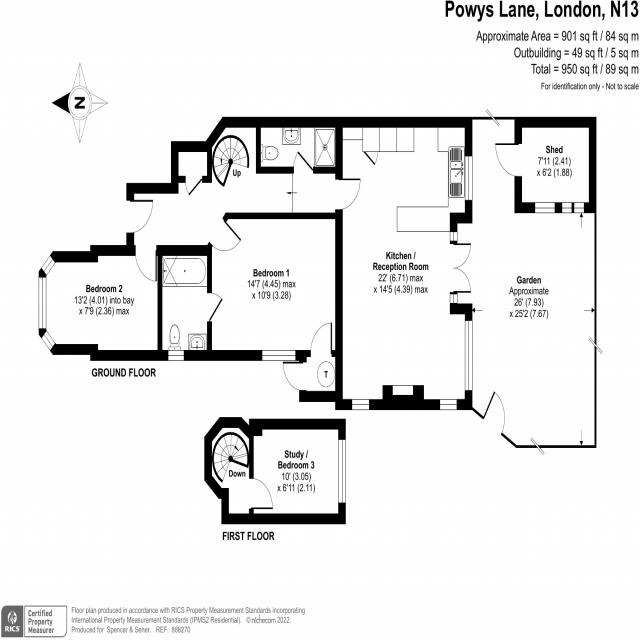DOOR: (207, 216, 243, 254), (482, 389, 506, 436), (126, 198, 154, 234), (335, 177, 361, 211), (134, 245, 157, 282), (310, 321, 333, 357), (249, 477, 274, 510), (207, 291, 224, 323), (293, 150, 314, 173)
ROOM: (334, 116, 473, 412), (207, 212, 343, 361), (38, 245, 163, 361), (248, 419, 346, 525)
WINDOW: (464, 318, 474, 393), (338, 438, 346, 504), (38, 276, 47, 329), (261, 349, 297, 362), (464, 155, 473, 202), (40, 254, 56, 278), (41, 329, 56, 352), (167, 349, 185, 362), (439, 399, 458, 411), (351, 399, 370, 411), (449, 231, 458, 242), (449, 293, 458, 304)
